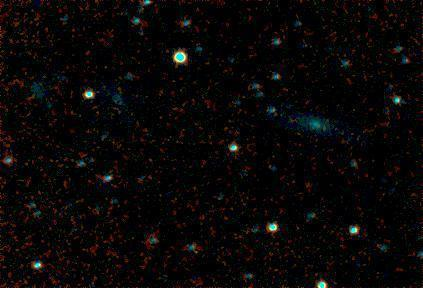star: (182, 240, 212, 270)
